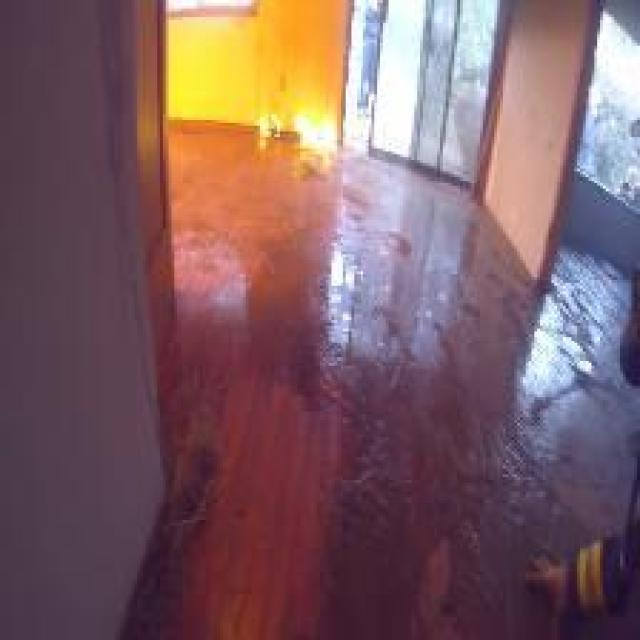other: (248, 102, 351, 156)
